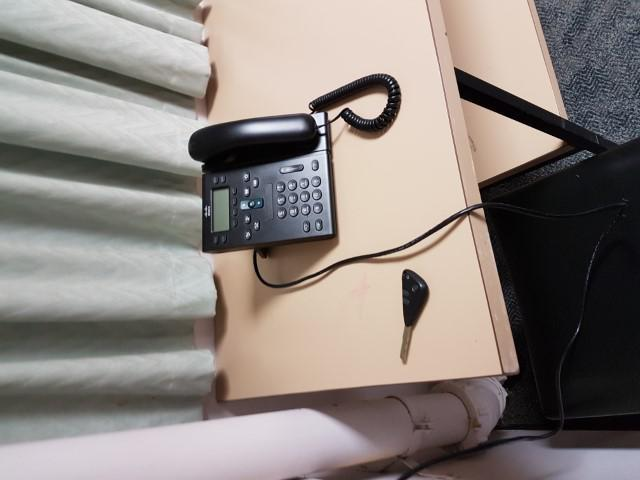key: (399, 268, 429, 363)
